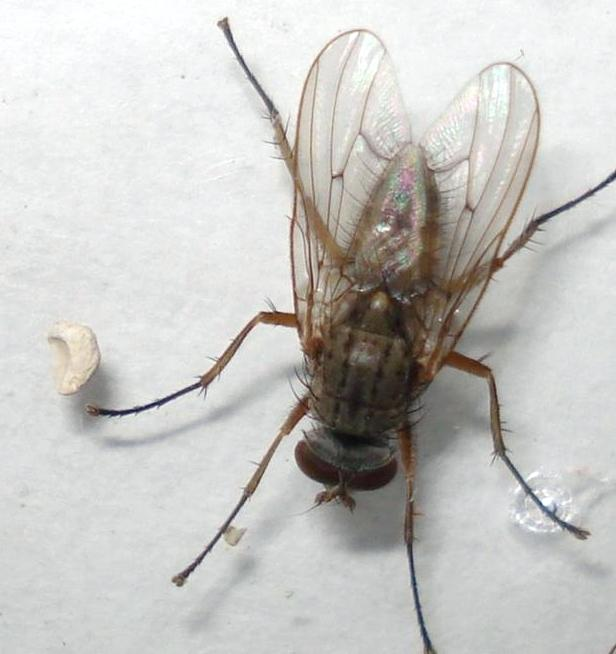house fly: (71, 10, 603, 652)
